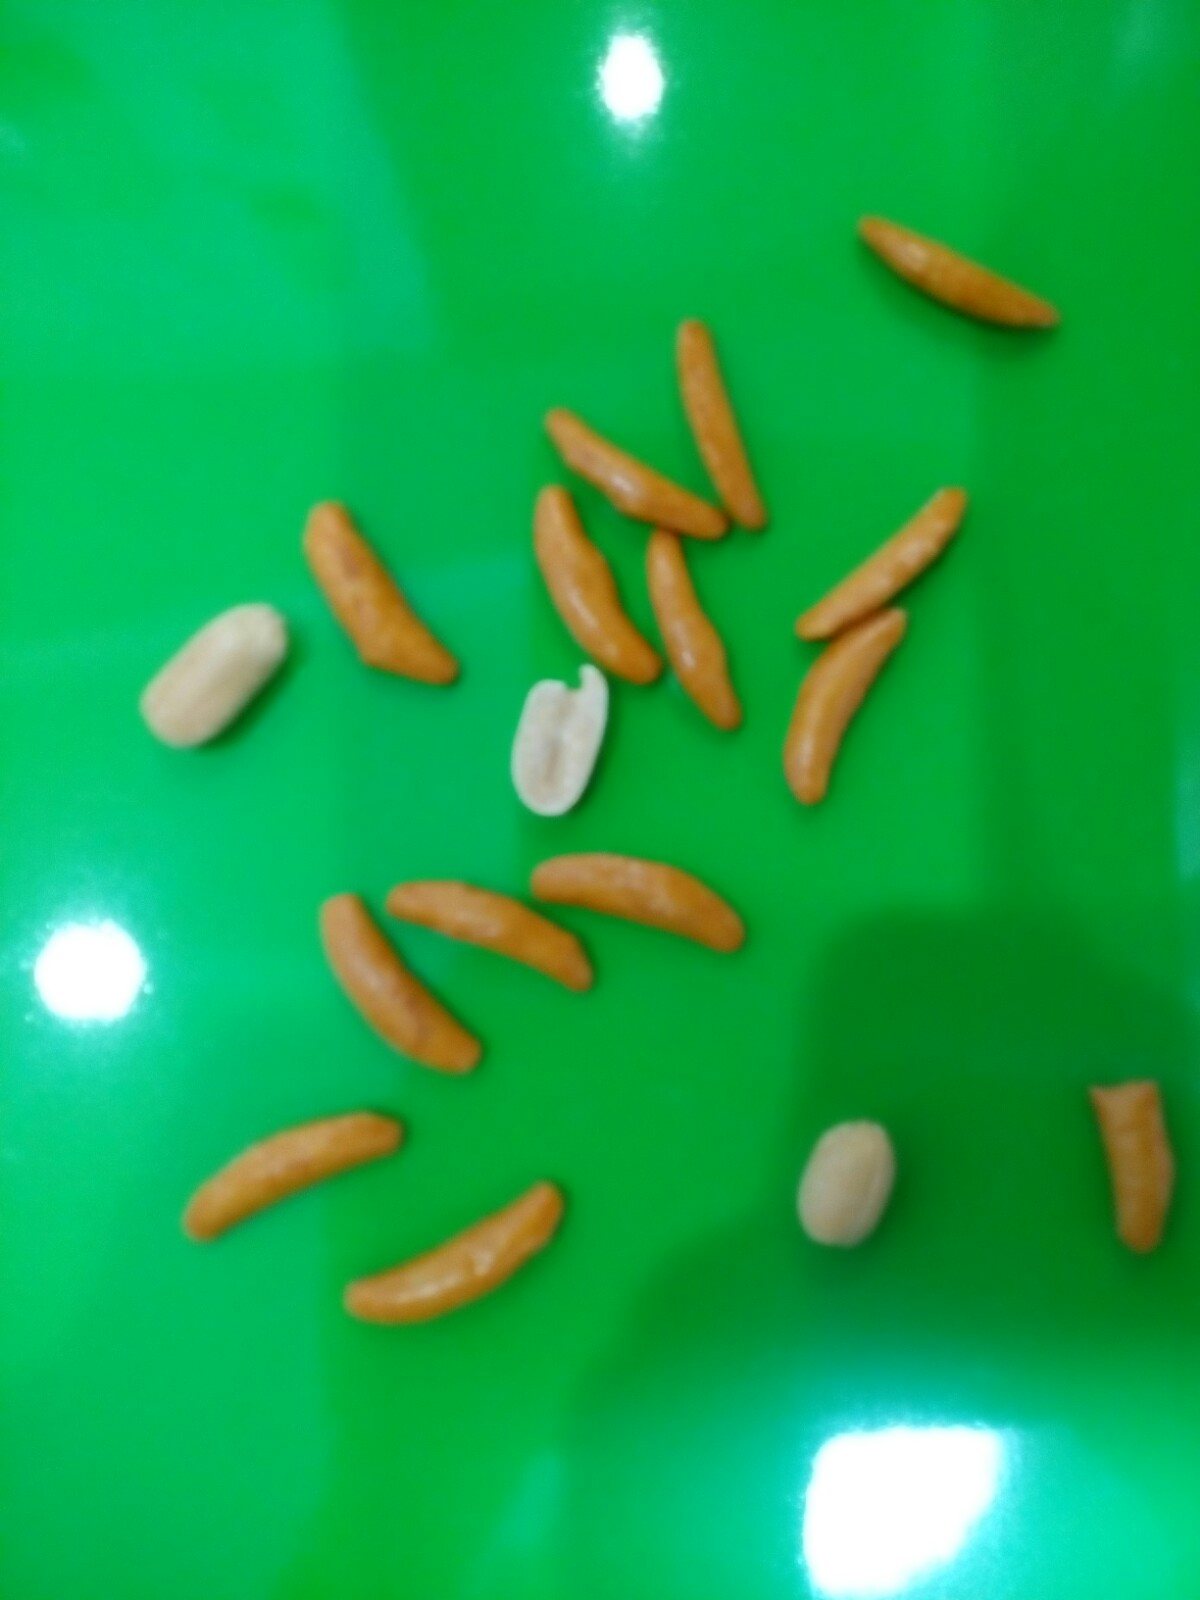peanut: (137, 585, 299, 758), (503, 661, 616, 826), (782, 1106, 903, 1259)
